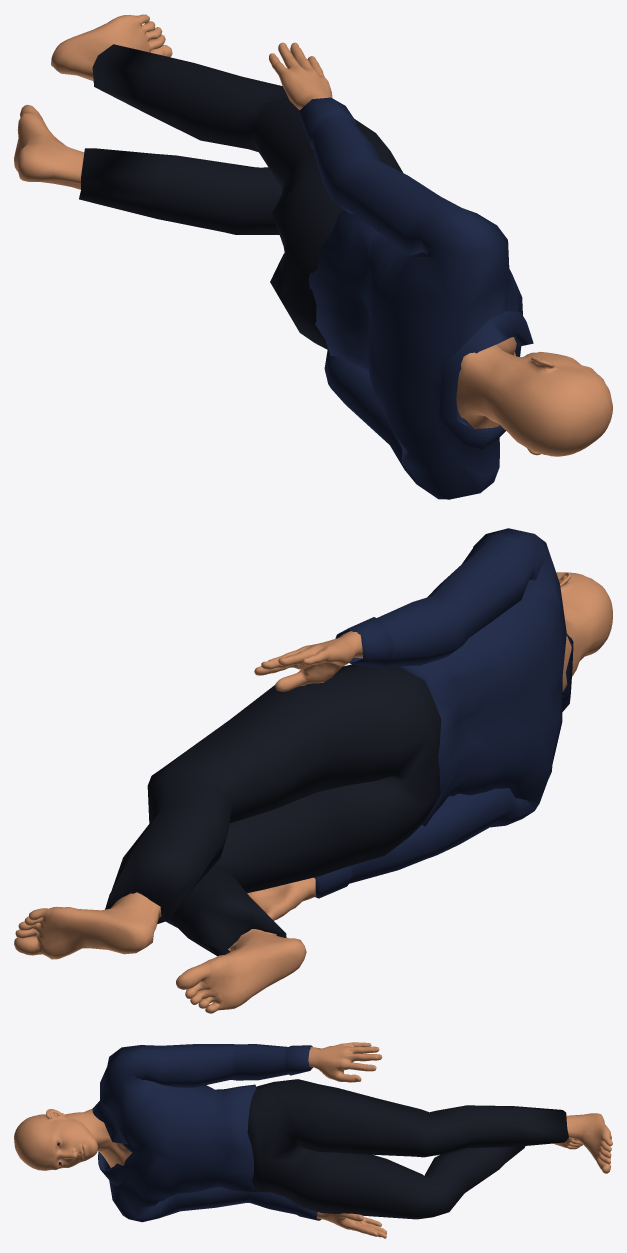
File: walk.obj
3 views of the same model, one above another, from view 1: azimuth 30°, elevation 25°; view 2: azimuth 150°, elevation 25°; view 3: azimuth 270°, elevation 25° (orthographic). The views are drawn at different scales.
Bounding box in the file's own units: 0.4973 × 0.5556 × 1.69.
